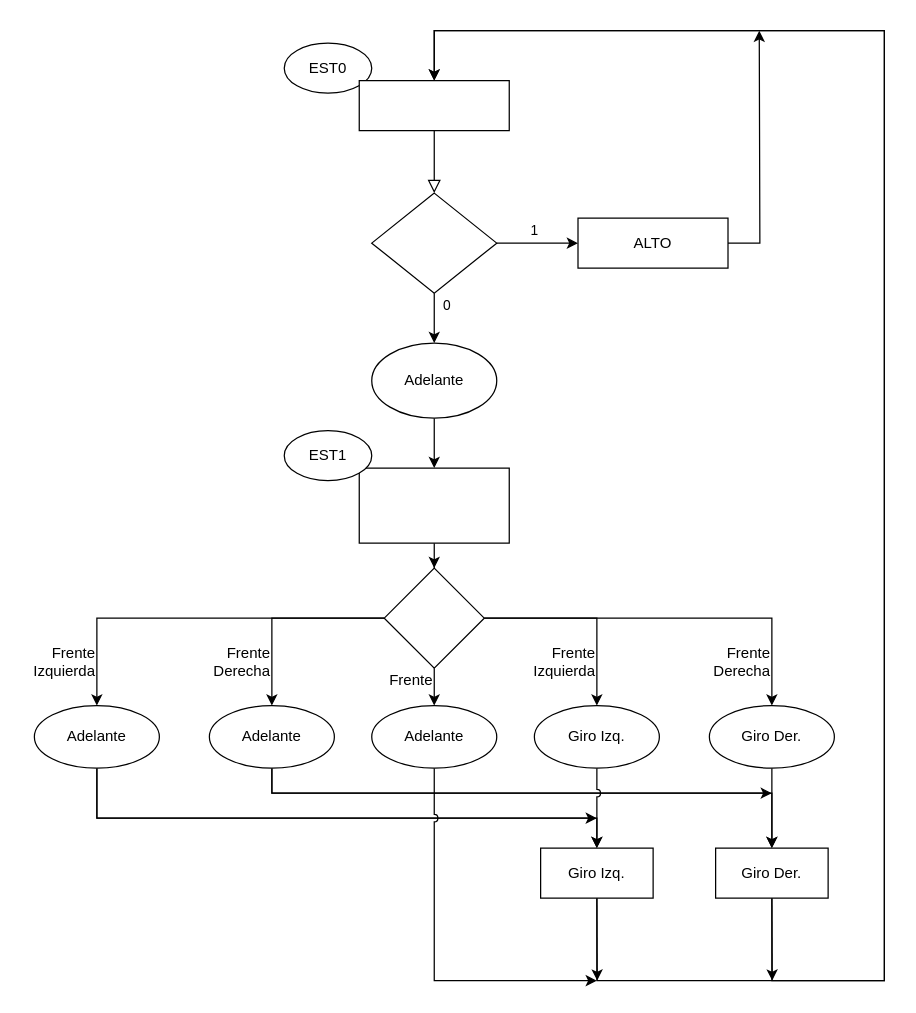
The diagram is 916 pixels wide and 1013 high, and some of its shapes have lost their labels. Here are the shapes that lost their labels. From the top down, the centre of each, then its label:
At (x=433, y=105): "Fotoresistencias[8]".
At (x=433, y=242): "I[8] > Umbral".
At (x=433, y=617): "POS_LUZ".
